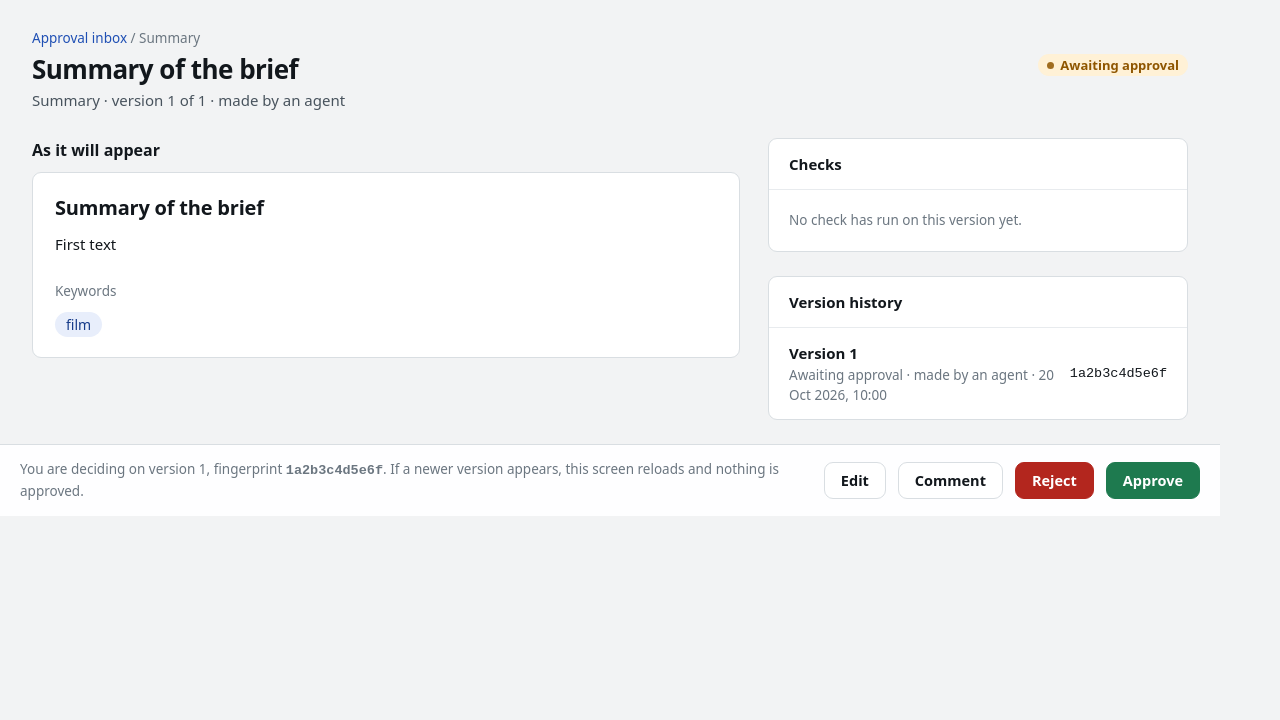
it: the item screen, driven › still says the item changed when the reload after a 409 fails
Click the button "Approve". click: (1153, 480)
box: [1106,462,1200,499]
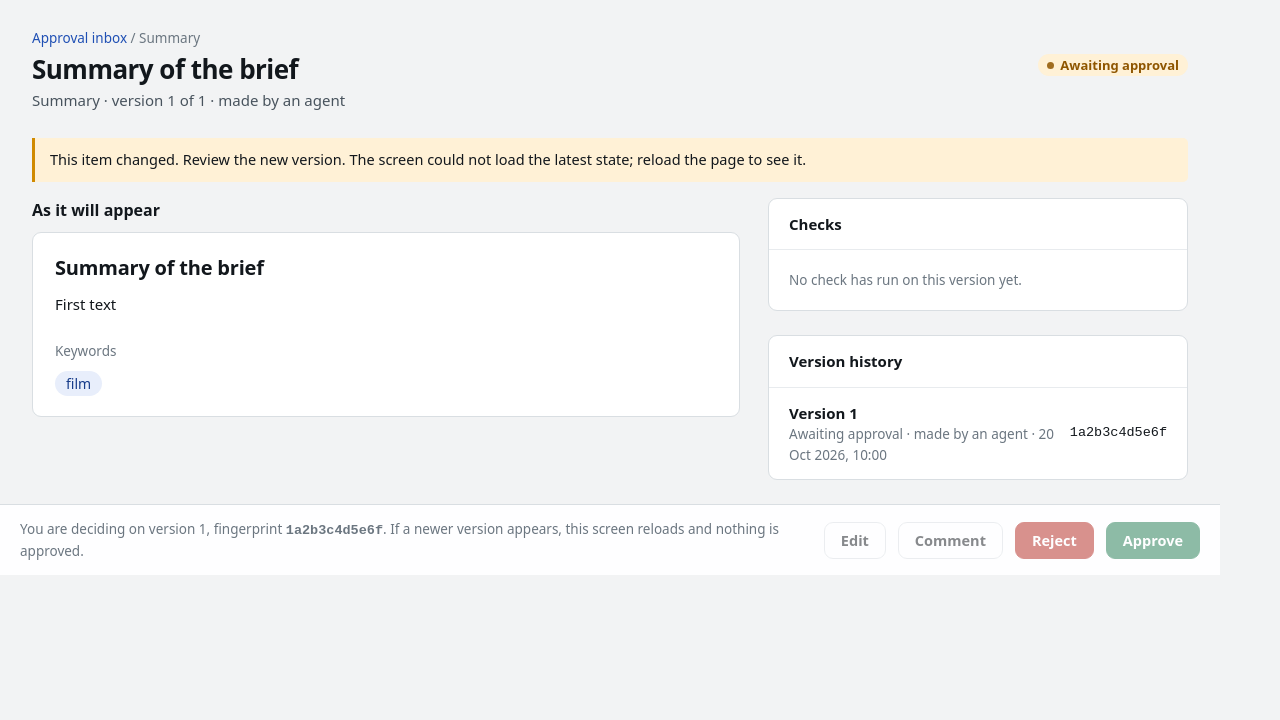
Check: the text "This item changed. Review the new version." is shown, box [50,149,806,169]
Check: the button "Approve" is disabled, box [1106,522,1200,559]
